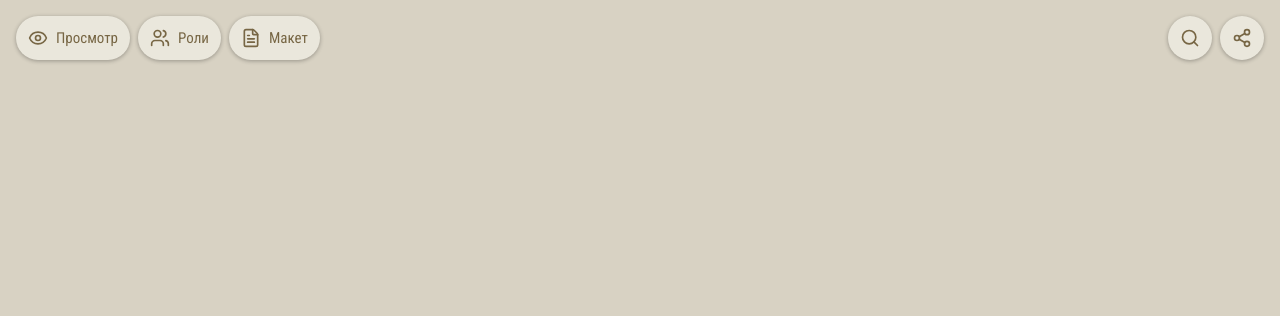
Test: FloatingToolbar › показывает не больше 5 совпадений
Click the button named "Поиск".
click(1190, 38)  # box [1168,16,1212,60]
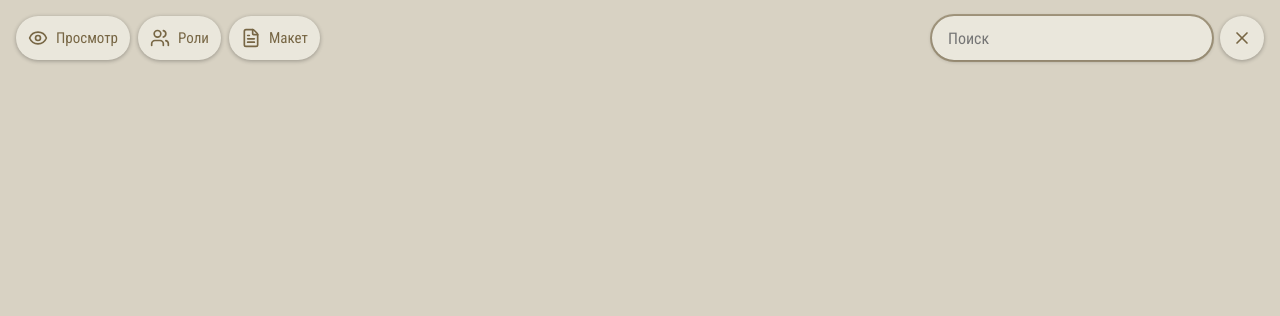
Type "а" into the search field.
click(1072, 38); type("а")  # box [932,16,1212,60]
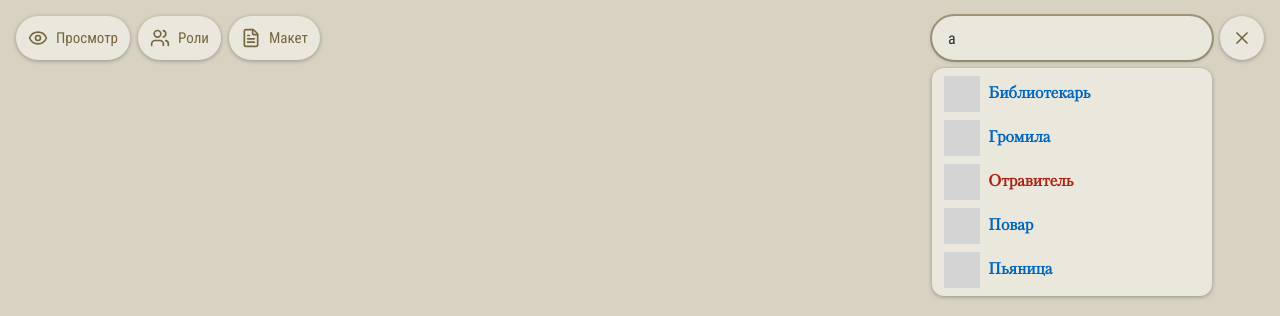
expect the number of list items is 5: met, box [936,72,1208,116]; [936,116,1208,160]; [936,160,1208,204]; [936,204,1208,248]; [936,248,1208,292]
